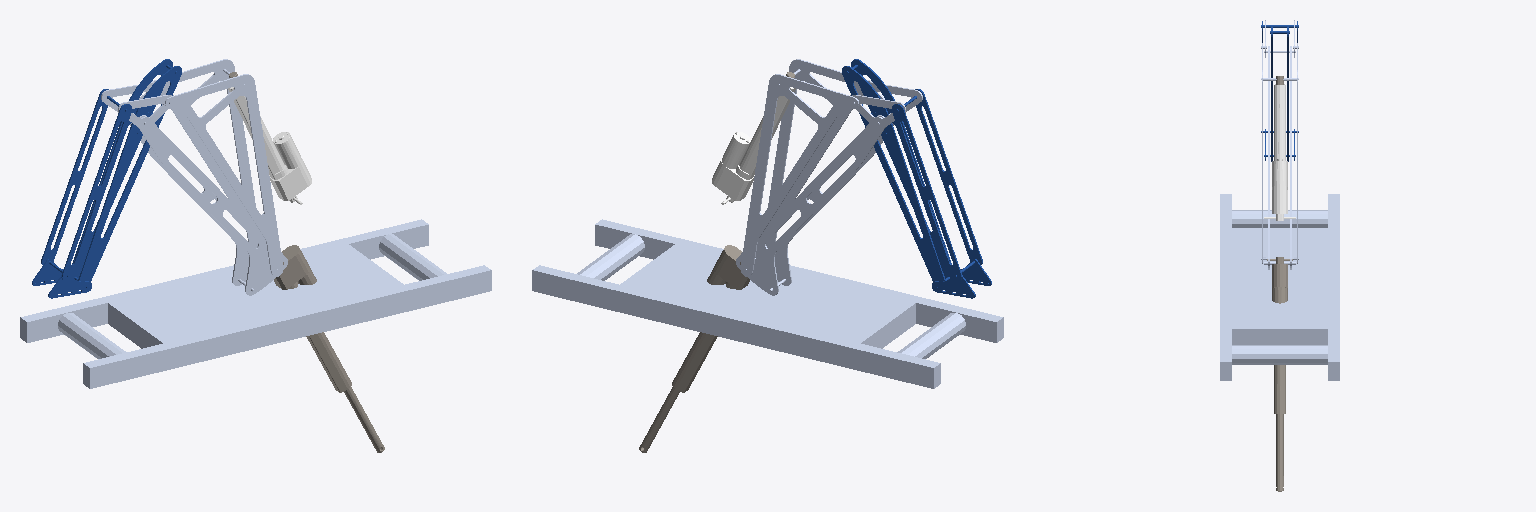
robot.urdf — owr_bluetounge_tf:
<robot
  name="owr_bluetounge_tf">
  <link
    name="base_link">
    <inertial>
      <origin
        xyz="0.016616375161824 0.0528781229668026 -1.01431182087836E-17"
        rpy="0 0 0" />
      <mass
        value="0.684098692441384" />
      <inertia
        ixx="0.00455045650818715"
        ixy="0.00123222889017576"
        ixz="-2.05591836957564E-17"
        iyy="0.00308597470213886"
        iyz="-3.25260651745651E-19"
        izz="0.00497257421260684" />
    </inertial>
    <visual>
      <origin
        xyz="0 0 0"
        rpy="0 0 0" />
      <geometry>
        <mesh
          filename="package://owr_bluetounge_tf/meshes/base_link.STL" />
      </geometry>
      <material
        name="">
        <color
          rgba="0.866666666666667 0.909803921568627 1 1" />
      </material>
    </visual>
    <collision>
      <origin
        xyz="0 0 0"
        rpy="0 0 0" />
      <geometry>
        <mesh
          filename="package://owr_bluetounge_tf/meshes/base_link.STL" />
      </geometry>
    </collision>
  </link>
  <link
    name="top_actuator_base">
    <inertial>
      <origin
        xyz="3.83869171488817E-07 0.108922375109678 0.011703569901285"
        rpy="0 0 0" />
      <mass
        value="0.500146440873382" />
      <inertia
        ixx="0.00409615173454293"
        ixy="8.77601716723506E-10"
        ixz="4.68609010469363E-11"
        iyy="0.000312154693900684"
        iyz="-0.000298261699976126"
        izz="0.00390712967398551" />
    </inertial>
    <visual>
      <origin
        xyz="0 0 0"
        rpy="0 0 0" />
      <geometry>
        <mesh
          filename="package://owr_bluetounge_tf/meshes/top_actuator_base.STL" />
      </geometry>
      <material
        name="">
        <color
          rgba="1 1 1 1" />
      </material>
    </visual>
    <collision>
      <origin
        xyz="0 0 0"
        rpy="0 0 0" />
      <geometry>
        <mesh
          filename="package://owr_bluetounge_tf/meshes/top_actuator_base.STL" />
      </geometry>
    </collision>
  </link>
  <joint
    name="top_actuator_base_rotate"
    type="continuous">
    <origin
      xyz="0.0898381894927384 0 0.209155716713238"
      rpy="1.14619501972752 5.59161451734894E-09 1.57079633916291" />
    <parent
      link="base_link" />
    <child
      link="top_actuator_base" />
    <axis
      xyz="1 0 0" />
  </joint>
  <link
    name="top_actuator_shaft">
    <inertial>
      <origin
        xyz="-6.4267451083122E-09 0.141281566918825 -3.89849655712068E-07"
        rpy="0 0 0" />
      <mass
        value="0.707194764725094" />
      <inertia
        ixx="0.00473421933812624"
        ixy="-5.20277564889667E-10"
        ixz="-3.85697240162265E-11"
        iyy="3.53245822418605E-05"
        iyz="7.79526323400234E-10"
        izz="0.00473445875699853" />
    </inertial>
    <visual>
      <origin
        xyz="0 0 0"
        rpy="0 0 0" />
      <geometry>
        <mesh
          filename="package://owr_bluetounge_tf/meshes/top_actuator_shaft.STL" />
      </geometry>
      <material
        name="">
        <color
          rgba="0.647058823529412 0.619607843137255 0.588235294117647 1" />
      </material>
    </visual>
    <collision>
      <origin
        xyz="0 0 0"
        rpy="0 0 0" />
      <geometry>
        <mesh
          filename="package://owr_bluetounge_tf/meshes/top_actuator_shaft.STL" />
      </geometry>
    </collision>
  </link>
  <joint
    name="top_actuator_extension"
    type="prismatic">
    <origin
      xyz="0 0.072106 0"
      rpy="3.1415 -1.5708 -3.1415" />
    <parent
      link="top_actuator_base" />
    <child
      link="top_actuator_shaft" />
    <axis
      xyz="0 1 0" />
    <limit
      lower="-10"
      upper="10"
      effort="1000"
      velocity="1000" />
  </joint>
  <link
    name="sync_main">
    <inertial>
      <origin
        xyz="0.308399703307983 0.0682318196530825 -0.042"
        rpy="0 0 0" />
      <mass
        value="0.648821763310332" />
      <inertia
        ixx="0.00312441138952551"
        ixy="0.00210512847022913"
        ixz="1.06959673598173E-15"
        iyy="0.0173867416966367"
        iyz="-3.00513307438188E-15"
        izz="0.0180631349574634" />
    </inertial>
    <visual>
      <origin
        xyz="0 0 0"
        rpy="0 0 0" />
      <geometry>
        <mesh
          filename="package://owr_bluetounge_tf/meshes/sync_main.STL" />
      </geometry>
      <material
        name="">
        <color
          rgba="0.866666666666667 0.909803921568627 1 1" />
      </material>
    </visual>
    <collision>
      <origin
        xyz="0 0 0"
        rpy="0 0 0" />
      <geometry>
        <mesh
          filename="package://owr_bluetounge_tf/meshes/sync_main.STL" />
      </geometry>
    </collision>
  </link>
  <joint
    name="top_actuator_to_sync_main"
    type="continuous">
    <origin
      xyz="-0.115124184387527 -0.175473958284508 -0.0419999999999987"
      rpy="3.14159265358979 0 1.67149338911123" />
    <parent
      link="top_actuator_shaft" />
    <child
      link="sync_main" />
    <axis
      xyz="0 0 -1" />
  </joint>
  <link
    name="structural_main">
    <inertial>
      <origin
        xyz="0.225431734082763 0.0316628590629306 -5.68132656025266E-16"
        rpy="0 0 0" />
      <mass
        value="0.54398717386464" />
      <inertia
        ixx="0.000873596024538079"
        ixy="-0.00164650205345855"
        ixz="5.00066924067826E-18"
        iyy="0.0192872741381462"
        iyz="-6.3071925495731E-20"
        izz="0.0193269664852361" />
    </inertial>
    <visual>
      <origin
        xyz="0 0 0"
        rpy="0 0 0" />
      <geometry>
        <mesh
          filename="package://owr_bluetounge_tf/meshes/structural_main.STL" />
      </geometry>
      <material
        name="">
        <color
          rgba="0.866666666666667 0.909803921568627 1 1" />
      </material>
    </visual>
    <collision>
      <origin
        xyz="0 0 0"
        rpy="0 0 0" />
      <geometry>
        <mesh
          filename="package://owr_bluetounge_tf/meshes/structural_main.STL" />
      </geometry>
    </collision>
  </link>
  <joint
    name="base_to_structural_main"
    type="continuous">
    <origin
      xyz="-0.027519999999994 0 0.0289999999999989"
      rpy="1.5707963267949 -1.04097774036042 3.14159265358979" />
    <parent
      link="base_link" />
    <child
      link="structural_main" />
    <axis
      xyz="0 0 1" />
  </joint>
  <link
    name="sync_plate">
    <inertial>
      <origin
        xyz="0.0549999999999702 0.0119792194518687 0.0379999999999998"
        rpy="0 0 0" />
      <mass
        value="0.109130569272771" />
      <inertia
        ixx="0.000183895963352781"
        ixy="-9.5325087883999E-18"
        ixz="-1.82108074524228E-16"
        iyy="0.000289451897743207"
        iyz="1.20937718939861E-16"
        izz="0.000190190410689571" />
    </inertial>
    <visual>
      <origin
        xyz="0 0 0"
        rpy="0 0 0" />
      <geometry>
        <mesh
          filename="package://owr_bluetounge_tf/meshes/sync_plate.STL" />
      </geometry>
      <material
        name="">
        <color
          rgba="0.866666666666667 0.909803921568627 1 1" />
      </material>
    </visual>
    <collision>
      <origin
        xyz="0 0 0"
        rpy="0 0 0" />
      <geometry>
        <mesh
          filename="package://owr_bluetounge_tf/meshes/sync_plate.STL" />
      </geometry>
    </collision>
  </link>
  <joint
    name="structural_main_to_sync_plate"
    type="continuous">
    <origin
      xyz="0.600097477062089 -0.0215765064114205 -0.038000000000001"
      rpy="6.88704600198578E-17 1.01259404278687E-16 2.16806796081584" />
    <parent
      link="structural_main" />
    <child
      link="sync_plate" />
    <axis
      xyz="0 0 -1" />
  </joint>
  <link
    name="sync_minor">
    <inertial>
      <origin
        xyz="0.193924800000123 -8.80406858527749E-14 -0.0380000000000012"
        rpy="0 0 0" />
      <mass
        value="0.246647562813028" />
      <inertia
        ixx="0.000440170999251705"
        ixy="-1.3834419720915E-16"
        ixz="-1.56104953451504E-18"
        iyy="0.00525278378214959"
        iyz="2.05042989927599E-19"
        izz="0.0048509035078689" />
    </inertial>
    <visual>
      <origin
        xyz="0 0 0"
        rpy="0 0 0" />
      <geometry>
        <mesh
          filename="package://owr_bluetounge_tf/meshes/sync_minor.STL" />
      </geometry>
      <material
        name="">
        <color
          rgba="0.2 0.4 0.698039215686274 1" />
      </material>
    </visual>
    <collision>
      <origin
        xyz="0 0 0"
        rpy="0 0 0" />
      <geometry>
        <mesh
          filename="package://owr_bluetounge_tf/meshes/sync_minor.STL" />
      </geometry>
    </collision>
  </link>
  <joint
    name="sync_plate_to_sync_minor"
    type="continuous">
    <origin
      xyz="0 0 0"
      rpy="3.14159265358979 0 1.88517119022756" />
    <parent
      link="sync_plate" />
    <child
      link="sync_minor" />
    <axis
      xyz="0 0 -1" />
  </joint>
  <link
    name="end_plate">
    <inertial>
      <origin
        xyz="0.0428727282215507 0.0128068845418389 -0.0340000000000008"
        rpy="0 0 0" />
      <mass
        value="0.0752794153885443" />
      <inertia
        ixx="0.000111261417750823"
        ixy="-4.50412524856939E-06"
        ixz="2.18044340373966E-19"
        iyy="0.00014901271885592"
        iyz="1.65568844451897E-19"
        izz="6.49491468119235E-05" />
    </inertial>
    <visual>
      <origin
        xyz="0 0 0"
        rpy="0 0 0" />
      <geometry>
        <mesh
          filename="package://owr_bluetounge_tf/meshes/end_plate.STL" />
      </geometry>
      <material
        name="">
        <color
          rgba="0.2 0.4 0.698039215686274 1" />
      </material>
    </visual>
    <collision>
      <origin
        xyz="0 0 0"
        rpy="0 0 0" />
      <geometry>
        <mesh
          filename="package://owr_bluetounge_tf/meshes/end_plate.STL" />
      </geometry>
    </collision>
  </link>
  <joint
    name="sync_minor_to_end_plate"
    type="continuous">
    <origin
      xyz="0.439282685338782 -0.01788020325798 -0.00399999999999935"
      rpy="0 0 1.8863672273632" />
    <parent
      link="sync_minor" />
    <child
      link="end_plate" />
    <axis
      xyz="0 0 -1" />
  </joint>
  <link
    name="rocker">
    <inertial>
      <origin
        xyz="-0.129180419576857 -0.0112469868220492 -0.0179999999999988"
        rpy="0 0 0" />
      <mass
        value="0.441329423356223" />
      <inertia
        ixx="0.000365026101321346"
        ixy="-0.000616265597877525"
        ixz="8.60923200431153E-18"
        iyy="0.0112480592400231"
        iyz="-5.68897413066996E-19"
        izz="0.011254244352806" />
    </inertial>
    <visual>
      <origin
        xyz="0 0 0"
        rpy="0 0 0" />
      <geometry>
        <mesh
          filename="package://owr_bluetounge_tf/meshes/rocker.STL" />
      </geometry>
      <material
        name="">
        <color
          rgba="0.2 0.4 0.698039215686274 1" />
      </material>
    </visual>
    <collision>
      <origin
        xyz="0 0 0"
        rpy="0 0 0" />
      <geometry>
        <mesh
          filename="package://owr_bluetounge_tf/meshes/rocker.STL" />
      </geometry>
    </collision>
  </link>
  <joint
    name="sync_plate_to_rocker"
    type="continuous">
    <origin
      xyz="0.534024000000002 0 -0.0179999999999996"
      rpy="3.14159265358979 9.70332217454326E-17 0.914672033584322" />
    <parent
      link="structural_main" />
    <child
      link="rocker" />
    <axis
      xyz="0 0 1" />
  </joint>
  <link
    name="bottom_actuator_base">
    <inertial>
      <origin
        xyz="0.0320003878551581 0.107076218808197 -0.0663391676332811"
        rpy="0 0 0" />
      <mass
        value="0.529218600966516" />
      <inertia
        ixx="0.0060255555690891"
        ixy="6.21000934239989E-10"
        ixz="-5.42950145997367E-10"
        iyy="0.00109431938906026"
        iyz="-0.00196006105573983"
        izz="0.00504905973351217" />
    </inertial>
    <visual>
      <origin
        xyz="0 0 0"
        rpy="0 0 0" />
      <geometry>
        <mesh
          filename="package://owr_bluetounge_tf/meshes/bottom_actuator_base.STL" />
      </geometry>
      <material
        name="">
        <color
          rgba="0.647058823529412 0.619607843137255 0.588235294117647 1" />
      </material>
    </visual>
    <collision>
      <origin
        xyz="0 0 0"
        rpy="0 0 0" />
      <geometry>
        <mesh
          filename="package://owr_bluetounge_tf/meshes/bottom_actuator_base.STL" />
      </geometry>
    </collision>
  </link>
  <joint
    name="bottom_actuator_base_rotate"
    type="continuous">
    <origin
      xyz="0 0.0879999999999954 -0.0320000000000014"
      rpy="2.10061491322938 -1.5707963267949 0" />
    <parent
      link="structural_main" />
    <child
      link="bottom_actuator_base" />
    <axis
      xyz="-1 0 0" />
  </joint>
  <link
    name="bottom_actuator_shaft">
    <inertial>
      <origin
        xyz="-6.34969773982696E-09 0.166668233337011 -3.90622096564244E-07"
        rpy="0 0 0" />
      <mass
        value="0.834414950203527" />
      <inertia
        ixx="0.00776037762591339"
        ixy="-7.15075961354864E-10"
        ixz="-4.0351482010817E-11"
        iyy="4.16629664565436E-05"
        iyz="1.00937170204642E-09"
        izz="0.0077606170481828" />
    </inertial>
    <visual>
      <origin
        xyz="0 0 0"
        rpy="0 0 0" />
      <geometry>
        <mesh
          filename="package://owr_bluetounge_tf/meshes/bottom_actuator_shaft.STL" />
      </geometry>
      <material
        name="">
        <color
          rgba="0.647058823529412 0.619607843137255 0.588235294117647 1" />
      </material>
    </visual>
    <collision>
      <origin
        xyz="0 0 0"
        rpy="0 0 0" />
      <geometry>
        <mesh
          filename="package://owr_bluetounge_tf/meshes/bottom_actuator_shaft.STL" />
      </geometry>
    </collision>
  </link>
  <joint
    name="bottom_actuator_extension"
    type="prismatic">
    <origin
      xyz="0.032 0.21857 -0.11088"
      rpy="-1.5708 -1.1013 1.5708" />
    <parent
      link="bottom_actuator_base" />
    <child
      link="bottom_actuator_shaft" />
    <axis
      xyz="0 1 0" />
    <limit
      lower="-10"
      upper="10"
      effort="1000"
      velocity="1000" />
  </joint>
</robot>

--- What the picture shows (computed from the rendered views, not written in the file) ---
3 views of the same robot in one strip: view 1: azimuth 30°, elevation 25°; view 2: azimuth 150°, elevation 25°; view 3: azimuth 270°, elevation 25° (orthographic).
Robot: owr_bluetounge_tf — 11 links, 10 joints (8 continuous, 2 prismatic); root link base_link; default pose: all joints at 0.
Visible links, largest first — view 1: base_link, sync_main, structural_main, rocker, sync_minor, top_actuator_base, bottom_actuator_base, sync_plate, end_plate, bottom_actuator_shaft; view 2: base_link, sync_main, structural_main, rocker, sync_minor, top_actuator_base, bottom_actuator_base, sync_plate, end_plate, bottom_actuator_shaft; view 3: base_link, top_actuator_base, bottom_actuator_base, structural_main, bottom_actuator_shaft, rocker, sync_main.
Link boxes in pixels (x1,y1,x2,y2): base_link: (20, 219, 491, 388); sync_main: (152, 59, 283, 276); structural_main: (130, 113, 287, 295); rocker: (72, 59, 181, 288); sync_minor: (41, 89, 131, 281); top_actuator_base: (228, 87, 311, 204); bottom_actuator_base: (274, 245, 351, 392); sync_plate: (101, 82, 171, 129); end_plate: (32, 259, 91, 298); bottom_actuator_shaft: (344, 387, 384, 452); base_link: (532, 219, 1003, 388); sync_main: (740, 59, 871, 276); structural_main: (736, 113, 893, 295); rocker: (842, 59, 951, 288); sync_minor: (892, 89, 982, 281); top_actuator_base: (712, 87, 795, 204); bottom_actuator_base: (672, 245, 749, 392); sync_plate: (852, 82, 922, 129); end_plate: (932, 259, 991, 298); bottom_actuator_shaft: (639, 387, 679, 452); base_link: (1220, 194, 1339, 380); top_actuator_base: (1264, 84, 1295, 220); bottom_actuator_base: (1267, 257, 1292, 413); structural_main: (1264, 46, 1295, 269); bottom_actuator_shaft: (1276, 414, 1283, 491); rocker: (1264, 26, 1295, 161); sync_main: (1261, 43, 1298, 263).
Size in the robot's own frame: 1.04 by 0.3 by 1.05 metres.
Meshes: 11 distinct files referenced, 11 mesh visuals loaded (11 binary STL).